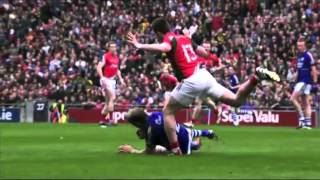player: (145, 16, 271, 150)
